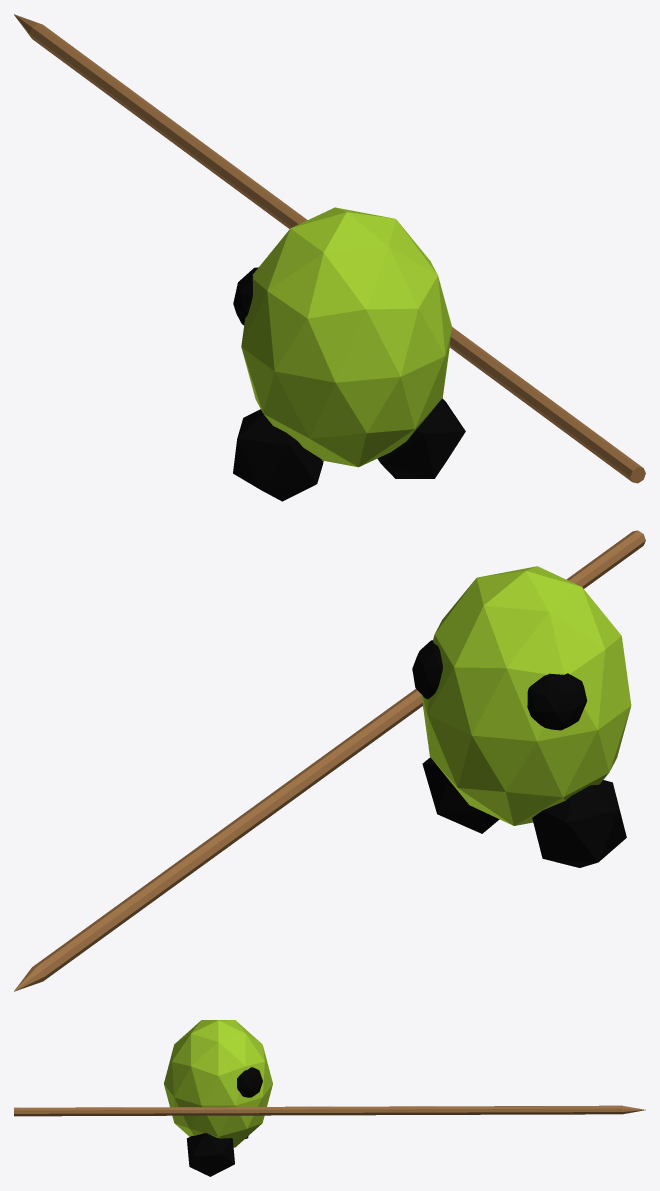
File: walk.f0012.glb
3 views of the same model, one above another, from view 1: azimuth 30°, elevation 25°; view 2: azimuth 150°, elevation 25°; view 3: azimuth 270°, elevation 25° (orthographic). The views are drawn at different scales.
Visible parts, largest first — view 1: Body.001; view 2: Body.001; view 3: Body.001.
Boxes of the visible parts, x1,y1,x2,y2 form: Body.001: (14,14,645,501); Body.001: (14,530,645,991); Body.001: (14,1020,645,1176).
Size of the model in its own units: 2.17 by 2.85 by 11.56.
1 material, 1 textured.
